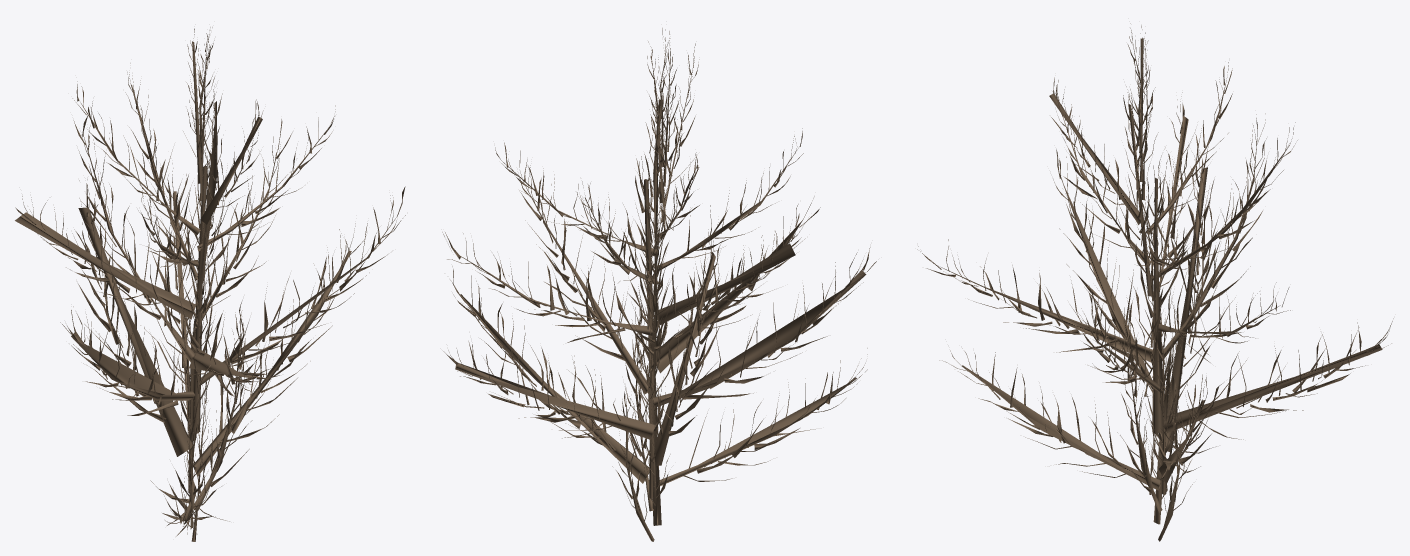
File: Spruce_01_LOD0.fbx
The picture shows the model from 3 angles, left to right: view 1: azimuth 30°, elevation 25°; view 2: azimuth 150°, elevation 25°; view 3: azimuth 270°, elevation 25°; orthographic projection. The views are drawn at different scales.
Parts seen in each view (by area): view 1: Spruce; view 2: Spruce; view 3: Spruce.
Part boxes in pixels (bbox=[...]): Spruce: bbox=[15, 27, 405, 541]; Spruce: bbox=[442, 28, 876, 541]; Spruce: bbox=[917, 23, 1393, 541].
Size of the model in its own units: 1016 by 1353 by 1122.
